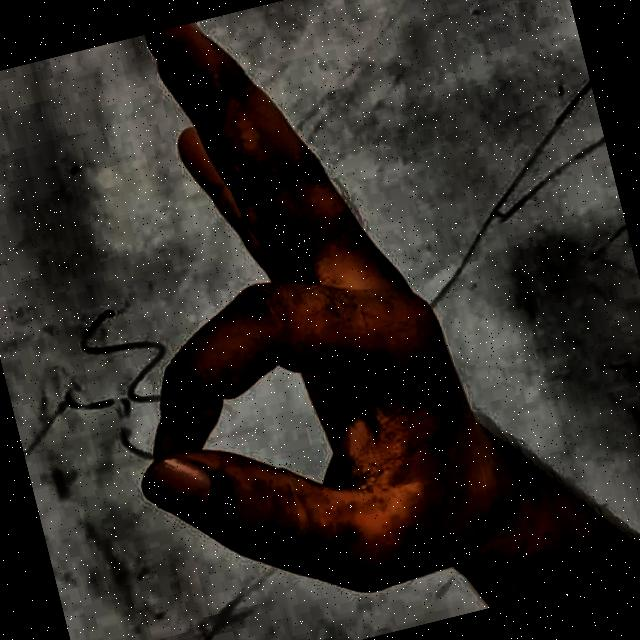Ca: (1, 0, 634, 640)
